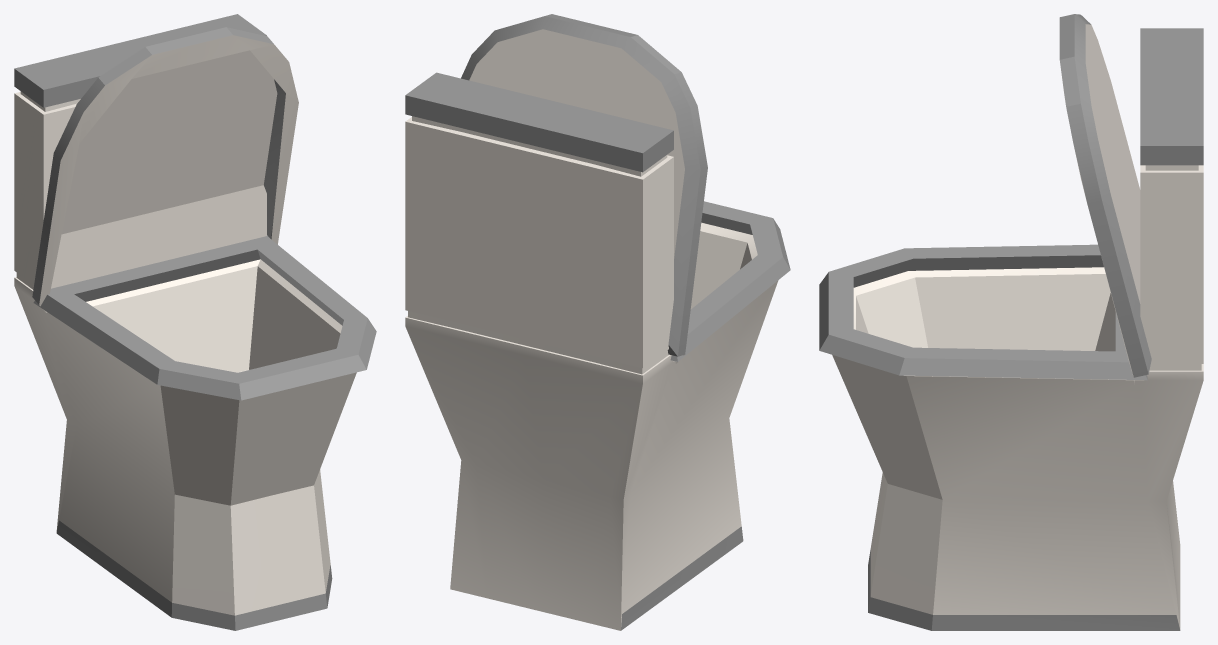
File: ToiletOpen.fbx
3 renders of one model, left to right at view 1: azimuth 30°, elevation 25°; view 2: azimuth 150°, elevation 25°; view 3: azimuth 270°, elevation 25°, orthographic. The views are drawn at different scales.
Parts seen in each view (by area): view 1: ToiletOpen; view 2: ToiletOpen; view 3: ToiletOpen.
Boxes of the visible parts, left/top/right/bottom form: ToiletOpen: left=14, top=14, right=376, bottom=630; ToiletOpen: left=405, top=14, right=790, bottom=630; ToiletOpen: left=819, top=14, right=1203, bottom=630.
Bounding box in the file's own units: 167 × 344 × 217.
